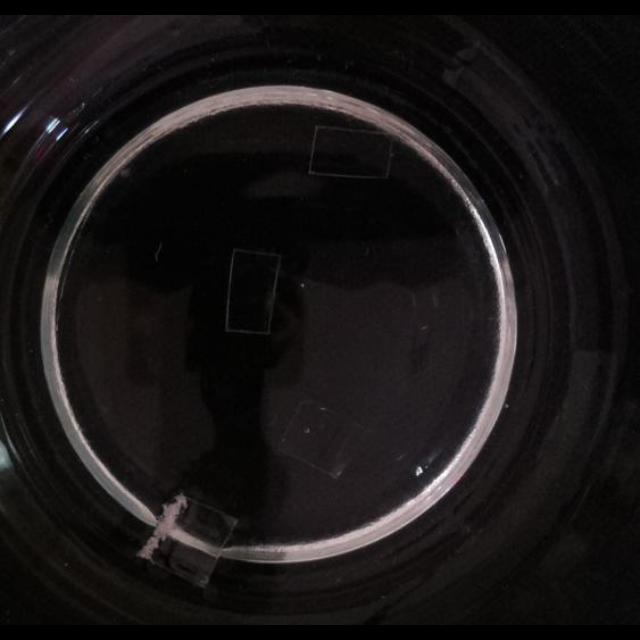Film: (140, 490, 234, 584), (275, 396, 365, 478), (223, 247, 283, 336), (306, 124, 394, 180)
